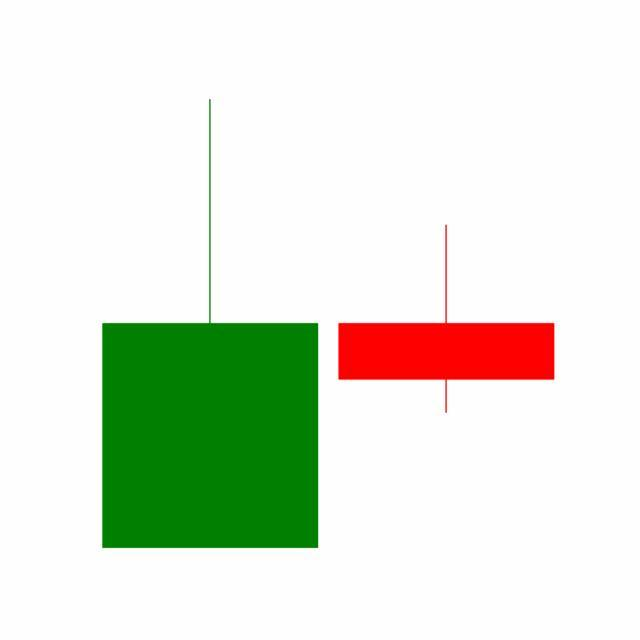Gravestone Doji: (328, 223, 566, 415)
